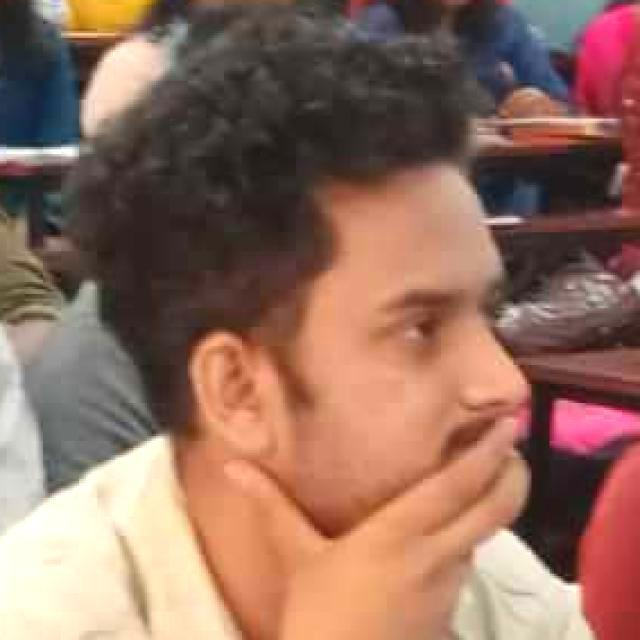Looking forward: (280, 157, 537, 522)
